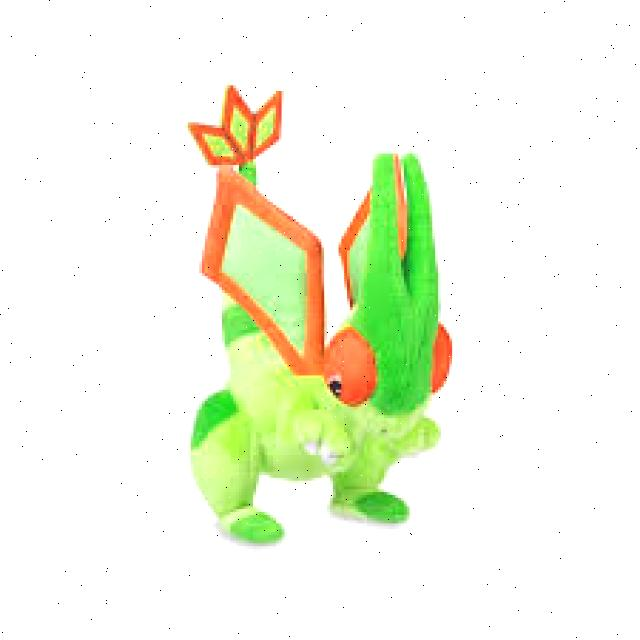flygon: (150, 86, 462, 553)
